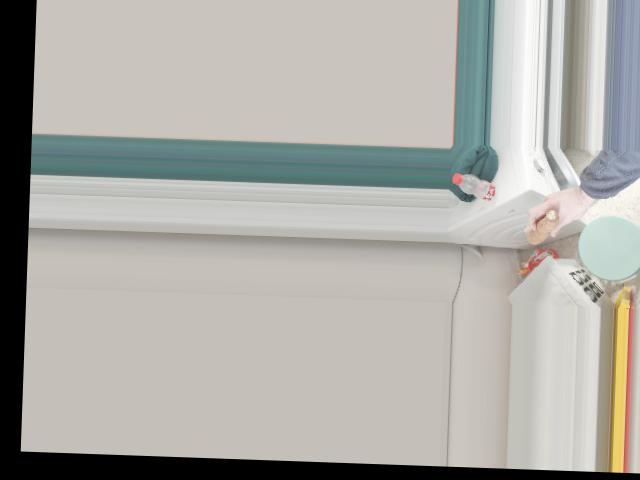sweet_potato: (522, 205, 564, 244)
